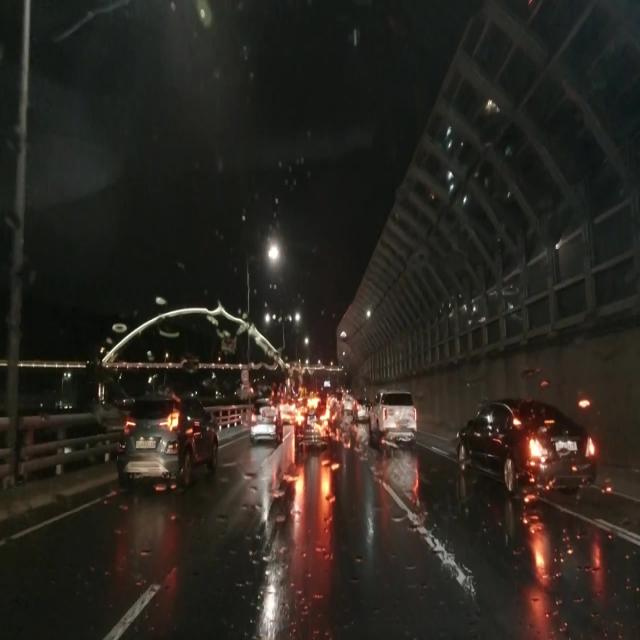Car: (454, 395, 596, 493), (115, 401, 216, 481), (369, 387, 415, 448), (293, 394, 332, 445), (248, 404, 279, 437)
